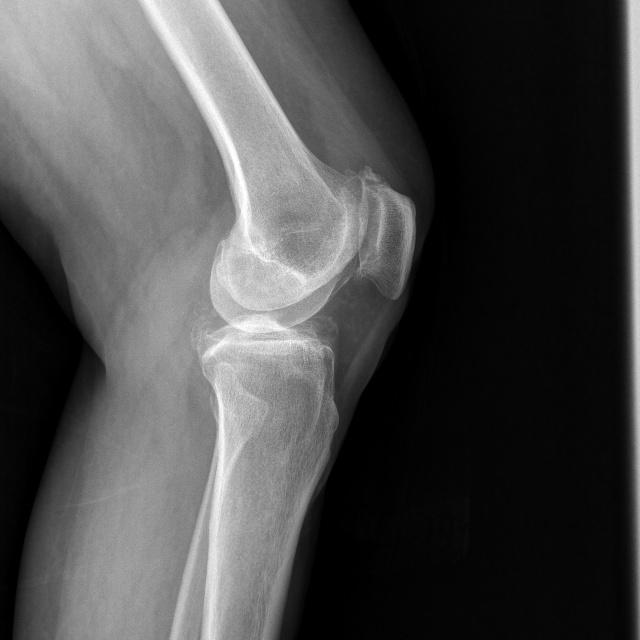Knee: (187, 166, 418, 407)
